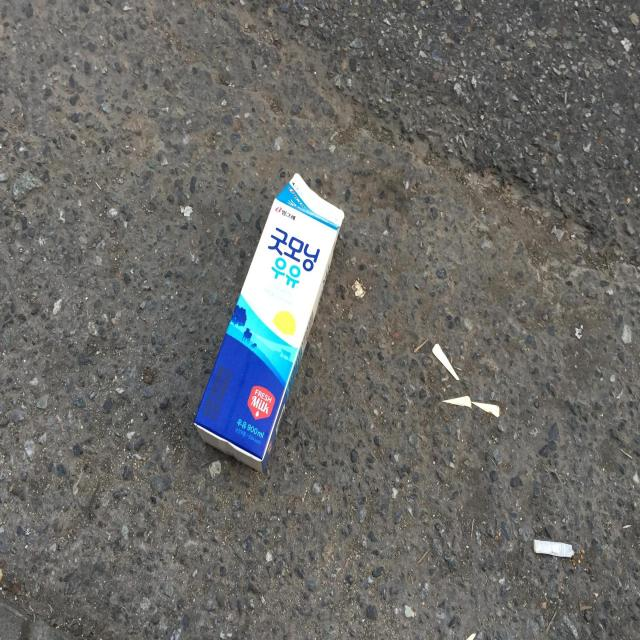paperpack: (194, 173, 344, 472)
